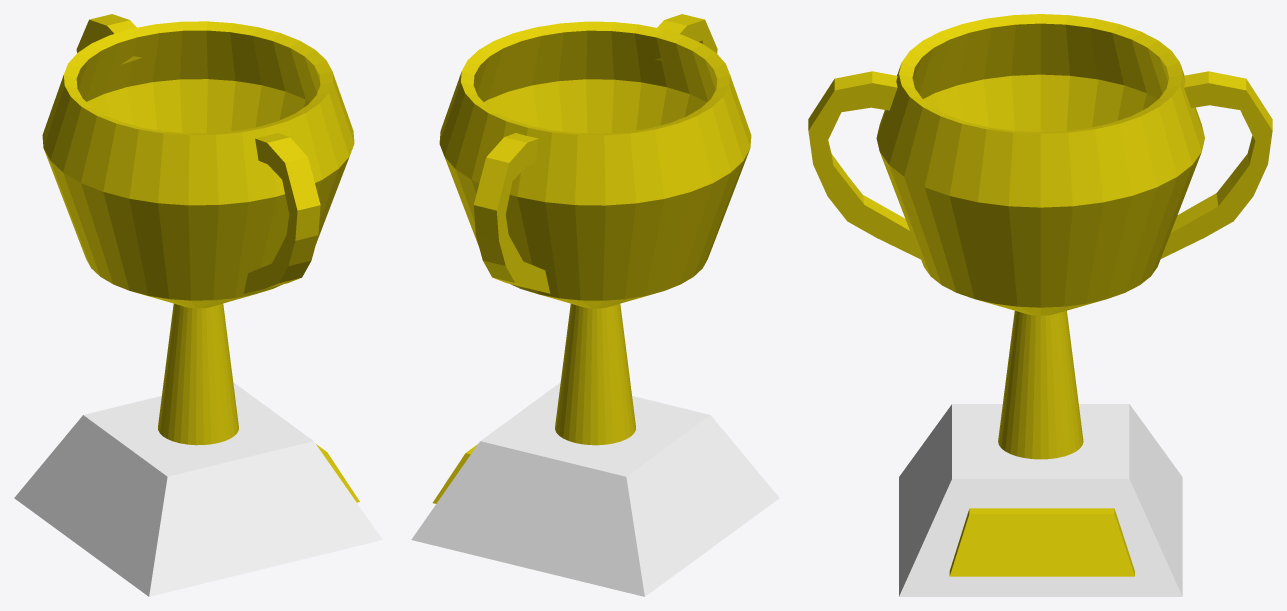
The model's file is trophy.gltf.
The picture shows the model from 3 angles, left to right: view 1: azimuth 30°, elevation 25°; view 2: azimuth 150°, elevation 25°; view 3: azimuth 270°, elevation 25°; orthographic projection. The views are drawn at different scales.
Visible parts, largest first — view 1: Cylinder, Cube, Cylinder.001, Cylinder.002; view 2: Cylinder, Cube, Cylinder.002, Cylinder.001; view 3: Cylinder, Cube, Cylinder.002, Cylinder.001.
Part boxes in pixels (box(x1,y1,x2,y2)): Cylinder: box(42, 21, 354, 445); Cube: box(14, 382, 382, 596); Cylinder.001: box(243, 133, 320, 293); Cylinder.002: box(76, 14, 141, 64); Cylinder: box(439, 21, 751, 445); Cube: box(411, 382, 779, 596); Cylinder.002: box(473, 133, 550, 293); Cylinder.001: box(655, 14, 717, 61); Cylinder: box(876, 14, 1204, 459); Cube: box(899, 404, 1182, 596); Cylinder.002: box(1161, 71, 1272, 258); Cylinder.001: box(808, 71, 920, 259).
Bounding box in the file's own units: 2.32 × 3.6 × 3.27.
